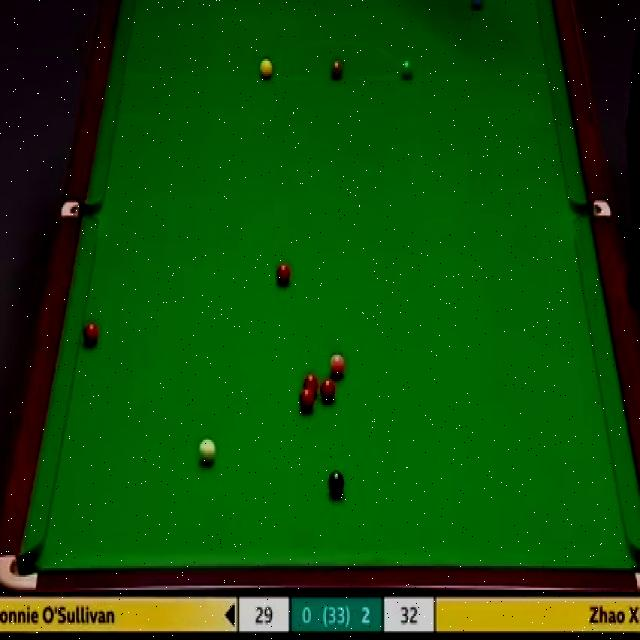black-ball: (327, 468, 346, 498)
blue-ball: (468, 0, 485, 11)
brown-ball: (330, 60, 344, 82)
green-ball: (400, 59, 414, 82)
pink-ball: (326, 353, 346, 380)
red-ball: (275, 261, 293, 287), (319, 377, 337, 402), (298, 388, 315, 414), (82, 321, 98, 348), (302, 373, 320, 396)
white-ball: (196, 437, 216, 468)
yellow-ball: (259, 58, 274, 81)
